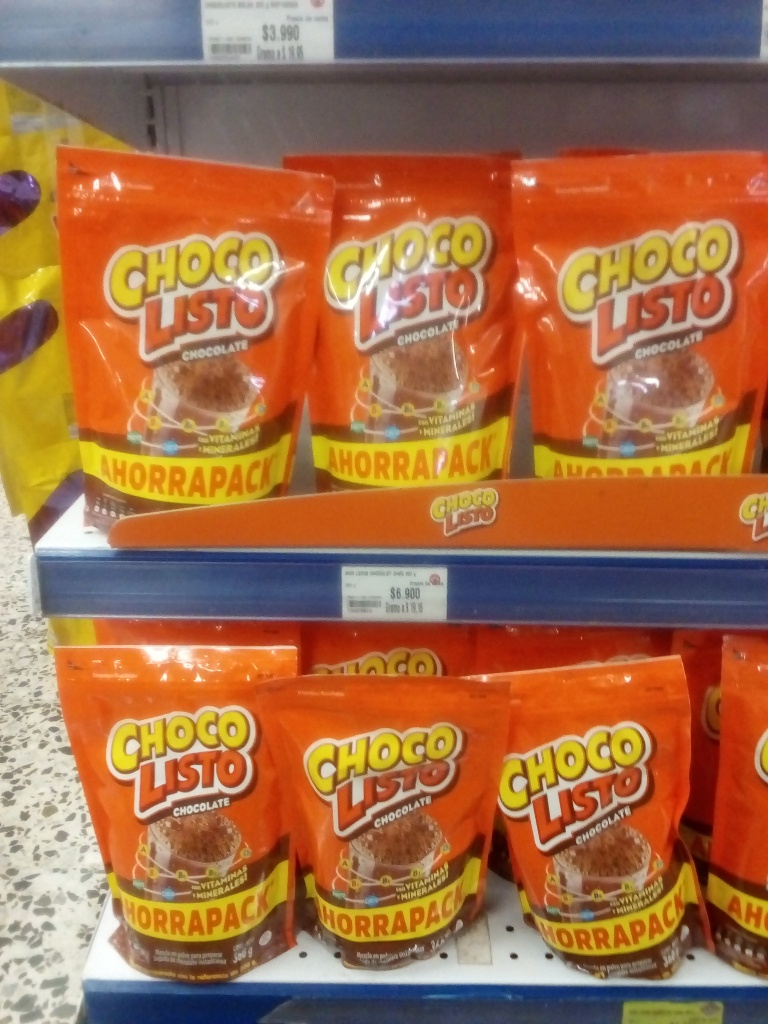COL0170103DYP36000: (49, 137, 325, 533)
